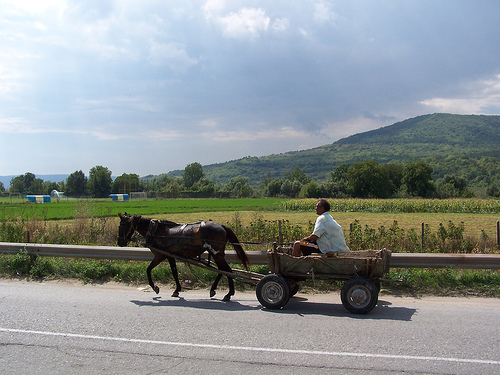horse: (116, 214, 251, 302)
